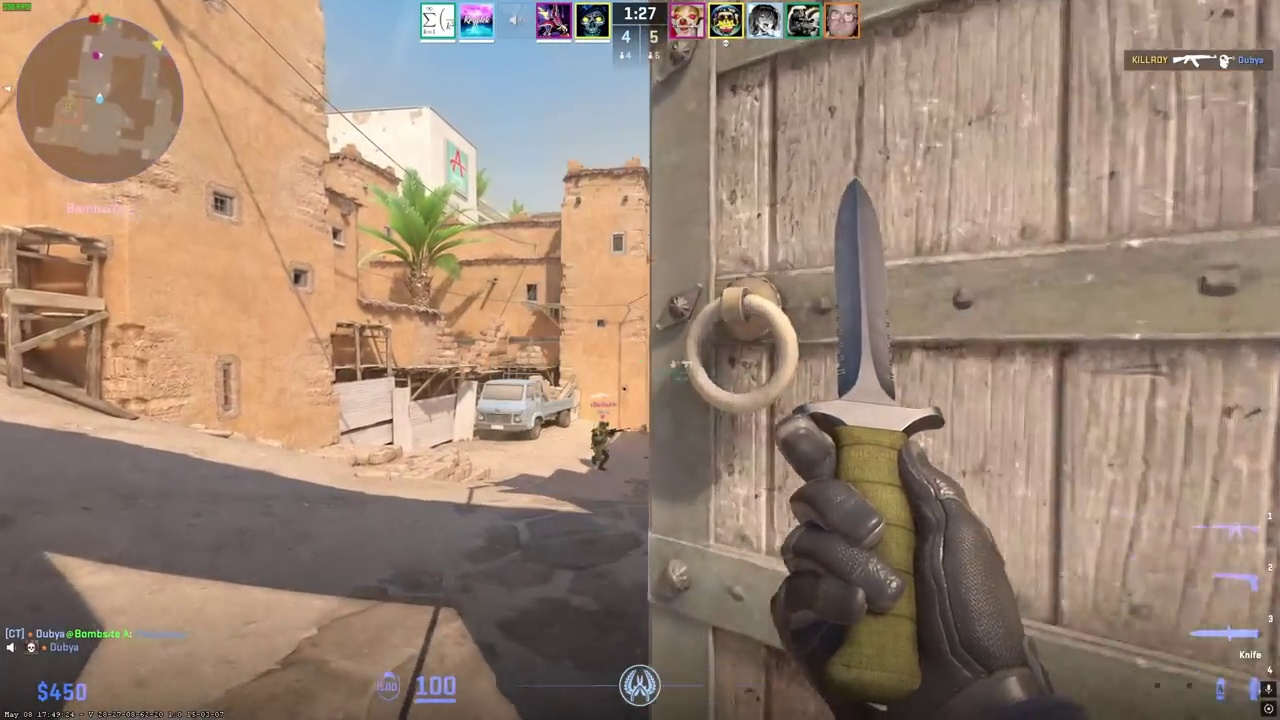CT: (591, 421, 614, 471)
